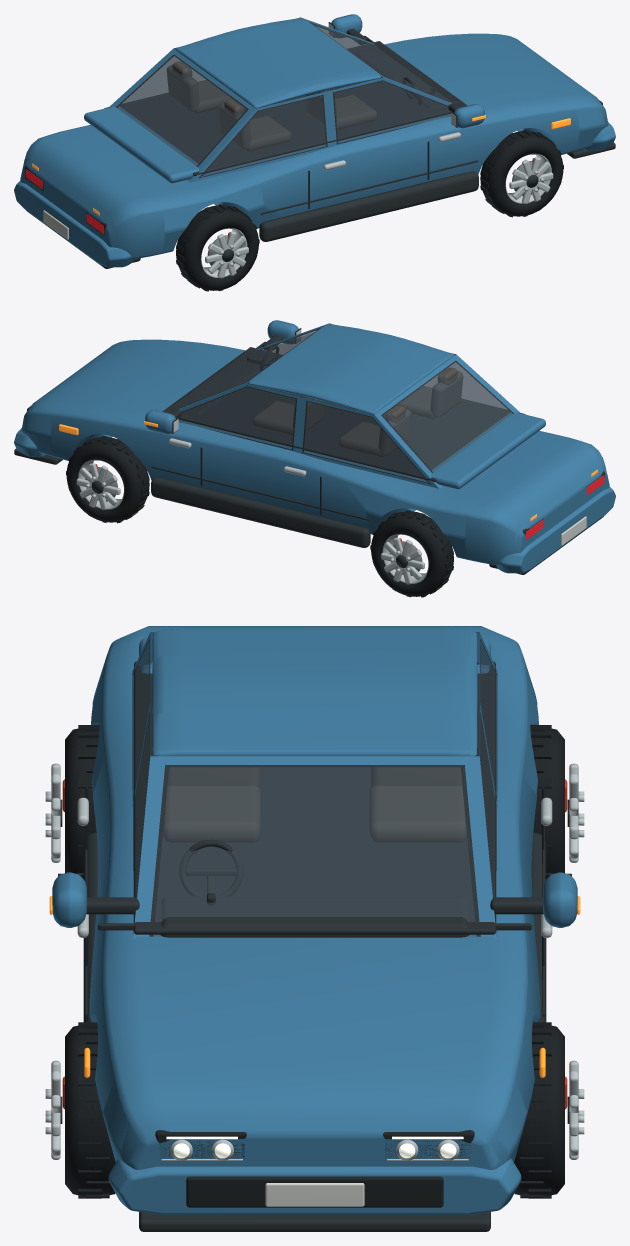
The model's file is city-sedan-v1.glb.
The picture shows the model from 3 angles, top to bottom: view 1: azimuth 30°, elevation 25°; view 2: azimuth 150°, elevation 25°; view 3: azimuth 270°, elevation 25°; orthographic projection. The views are drawn at different scales.
Parts seen in each view (by area): view 1: Sculpted one-piece painted body, Crowned painted roof, Dark cabin floor, Rear windscreen, Rear side glass, Sculpted side sill, Front side glass, Integrated rear deck lip, Rounded tire front_left, Rounded tire rear_left, Sculpted rear bumper skin, Dashboard upper pad (+16 smaller); view 2: Sculpted one-piece painted body, Crowned painted roof, Dark cabin floor, Rear windscreen, Rear side glass.001, Sculpted side sill.001, Front side glass.001, Integrated rear deck lip, Rounded tire front_right, Rounded tire rear_right, Sculpted rear bumper skin, Dashboard upper pad (+16 smaller); view 3: Sculpted one-piece painted body, Front windscreen, Crowned painted roof, Dark cabin floor, Sculpted front bumper skin, Dashboard upper pad, Front splitter, Full-width front lower intake, Seat cushion.001, Seat cushion, Rounded tire front_left, Rounded tire front_right (+22 smaller).
Part boxes in pixels (bbox=[...]): Sculpted one-piece painted body: bbox=[20, 33, 608, 259]; Crowned painted roof: bbox=[175, 18, 380, 108]; Dark cabin floor: bbox=[104, 41, 467, 175]; Rear windscreen: bbox=[117, 56, 246, 165]; Rear side glass: bbox=[201, 96, 325, 176]; Sculpted side sill: bbox=[259, 171, 478, 241]; Front side glass: bbox=[334, 81, 451, 143]; Integrated rear deck lip: bbox=[84, 106, 204, 183]; Rounded tire front_left: bbox=[480, 131, 563, 216]; Rounded tire rear_left: bbox=[176, 205, 258, 290]; Sculpted rear bumper skin: bbox=[14, 180, 133, 267]; Dashboard upper pad: bbox=[355, 46, 460, 108]; Sculpted one-piece painted body: bbox=[21, 339, 609, 565]; Crowned painted roof: bbox=[249, 324, 454, 414]; Dark cabin floor: bbox=[162, 347, 525, 481]; Rear windscreen: bbox=[383, 362, 512, 471]; Rear side glass.001: bbox=[304, 402, 428, 482]; Sculpted side sill.001: bbox=[151, 477, 370, 547]; Front side glass.001: bbox=[178, 387, 295, 449]; Integrated rear deck lip: bbox=[425, 412, 545, 489]; Rounded tire front_right: bbox=[66, 437, 149, 522]; Rounded tire rear_right: bbox=[371, 511, 453, 596]; Sculpted rear bumper skin: bbox=[496, 486, 615, 573]; Dashboard upper pad: bbox=[169, 352, 266, 414]; Sculpted one-piece painted body: bbox=[89, 626, 540, 1169]; Front windscreen: bbox=[153, 767, 476, 936]; Crowned painted roof: bbox=[152, 628, 477, 756]; Dark cabin floor: bbox=[134, 661, 495, 934]; Sculpted front bumper skin: bbox=[108, 1158, 521, 1214]; Dashboard upper pad: bbox=[160, 897, 469, 937]; Front splitter: bbox=[139, 1212, 490, 1231]; Full-width front lower intake: bbox=[186, 1176, 443, 1207]; Seat cushion.001: bbox=[369, 786, 467, 843]; Seat cushion: bbox=[162, 786, 260, 843]; Rounded tire front_left: bbox=[65, 1025, 115, 1195]; Rounded tire front_right: bbox=[514, 1025, 564, 1195].
Bounding box in the file's own units: 4.83 × 1.46 × 2.17.
